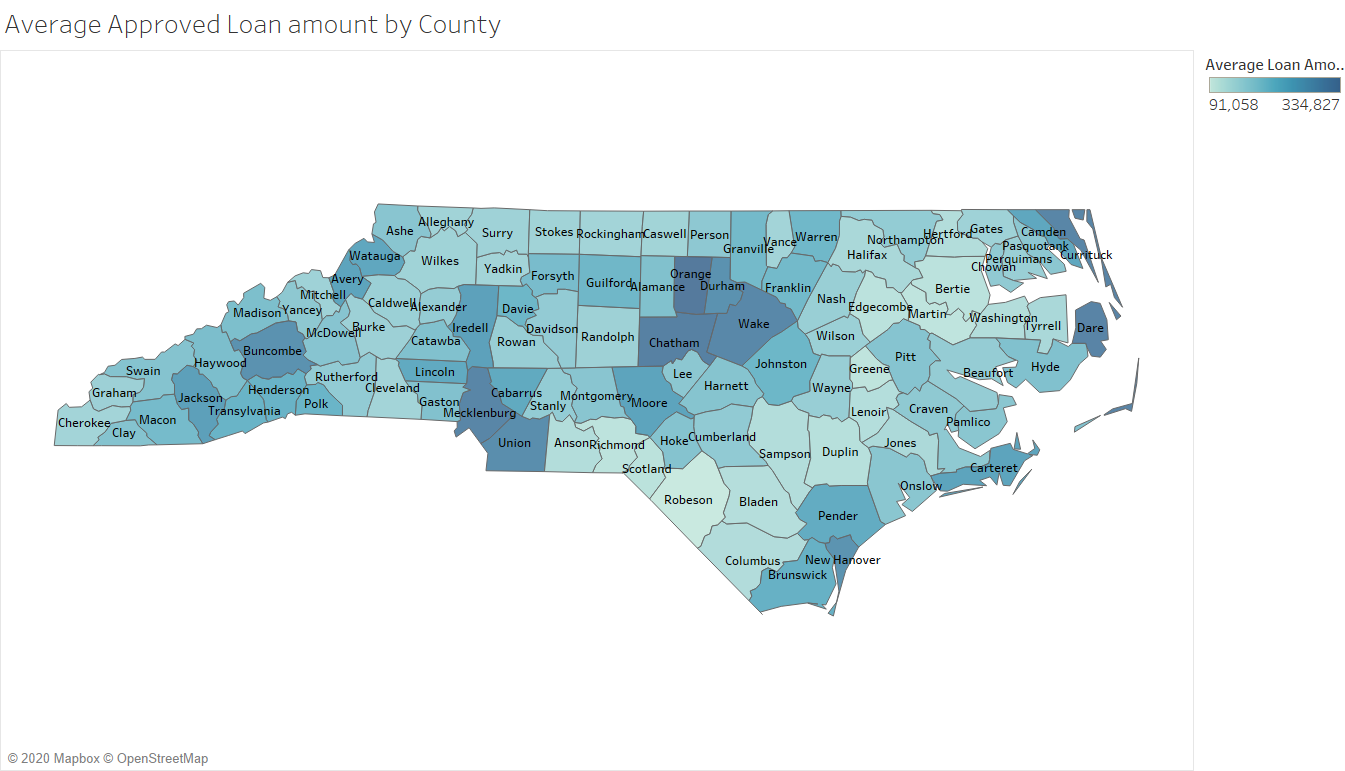

This screenshot's page, from the dashboard's own definition file:
{"tool":"tableau","page":{"name":"Dashboard 2","canvas":[1300,700],"ordinal":1},"visuals":[{"type":"worksheet","title":"Sheet 2","mark":"Multipolygon","box":[8,8,1095,684]},{"type":"filter","title":"Sheet 2","param":"[federated.1avqj2x1dort7m1gd5v5y0shxvk3].[none:County:nk]","box":[1103,8,189,61]},{"type":"filter","title":"Sheet 2","param":"[federated.1avqj2x1dort7m1gd5v5y0shxvk3].[usr:Calculation_931119255383494656:qk]","box":[1103,69,189,73]},{"type":"filter","title":"Sheet 2","param":"[federated.1avqj2x1dort7m1gd5v5y0shxvk3].[Set 1]","box":[1103,142,189,61]},{"type":"filter","title":"Sheet 2","param":"[federated.1avqj2x1dort7m1gd5v5y0shxvk3].[none:loan_term:qk]","box":[1103,203,189,73]},{"type":"legend","title":"Sheet 2","param":"[federated.1avqj2x1dort7m1gd5v5y0shxvk3].[Action Taken (group)]","box":[198,460.3,181.8,72]}]}

Visuals, with their boxes on the page's 1300x700 design canvas (x1, y1, x2, y2). These are canvas units, not pixel positions in the 1345x771 screenshot, which may show the page scaled, cropped or inside an application window:
"Sheet 2" worksheet (Multipolygon marks): (8, 8, 1103, 692)
"Sheet 2" filter: (1103, 8, 1292, 69)
"Sheet 2" filter: (1103, 69, 1292, 142)
"Sheet 2" filter: (1103, 142, 1292, 203)
"Sheet 2" filter: (1103, 203, 1292, 276)
"Sheet 2" legend: (198, 460, 380, 532)
